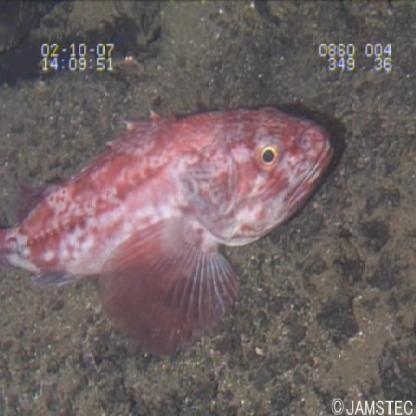Bio: (1, 100, 339, 368)
